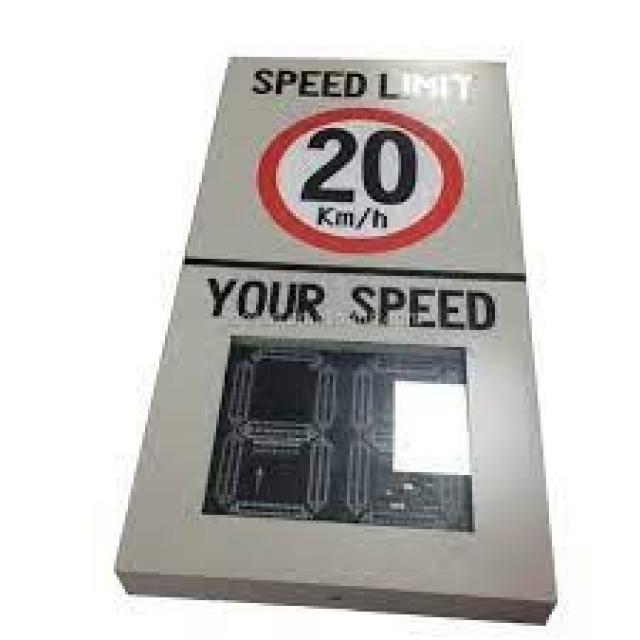speed_limit_20: (260, 103, 474, 258)
